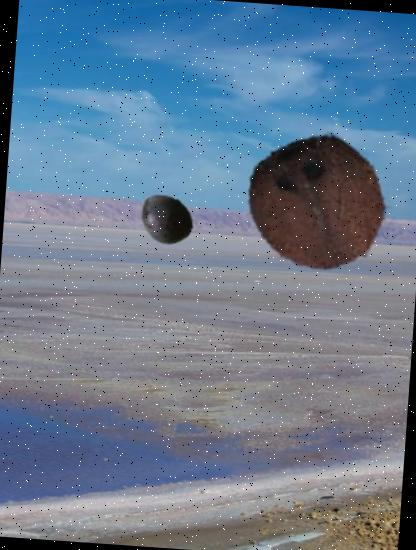Cocos: (238, 122, 397, 281)
Plum: (136, 189, 196, 249)
